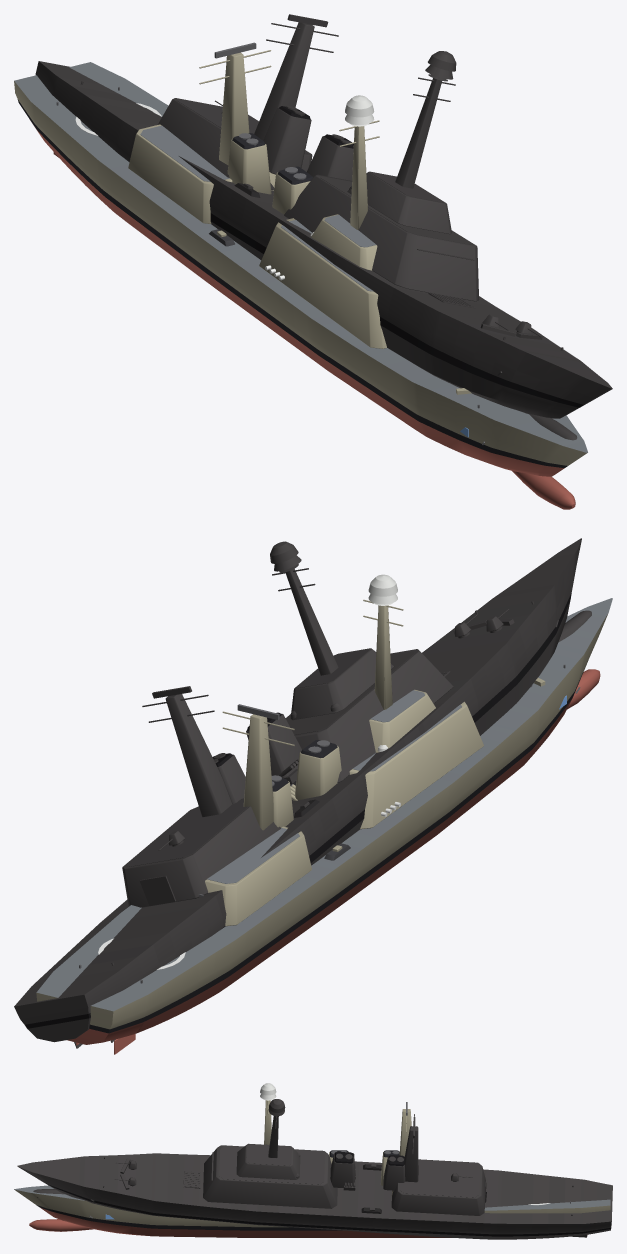
The model's file is destroyer__horizon_class.glb.
The picture shows the model from 3 angles, top to bottom: view 1: azimuth 30°, elevation 25°; view 2: azimuth 150°, elevation 25°; view 3: azimuth 270°, elevation 25°; orthographic projection. The views are drawn at different scales.
Visible parts, largest first — view 1: Hull_Mesh, Wreck; view 2: Wreck, Hull_Mesh; view 3: Wreck, Hull_Mesh.
Part boxes in pixels (left/top/right/bottom): Hull_Mesh: left=14, top=42, right=587, bottom=509; Wreck: left=35, top=14, right=612, bottom=440; Wreck: left=14, top=538, right=591, bottom=1048; Hull_Mesh: left=36, top=574, right=612, bottom=1054; Wreck: left=17, top=1099, right=612, bottom=1239; Hull_Mesh: left=14, top=1083, right=610, bottom=1237.
Size of what is drawn, in the model's own units: 28.97 by 46.51 by 160.
